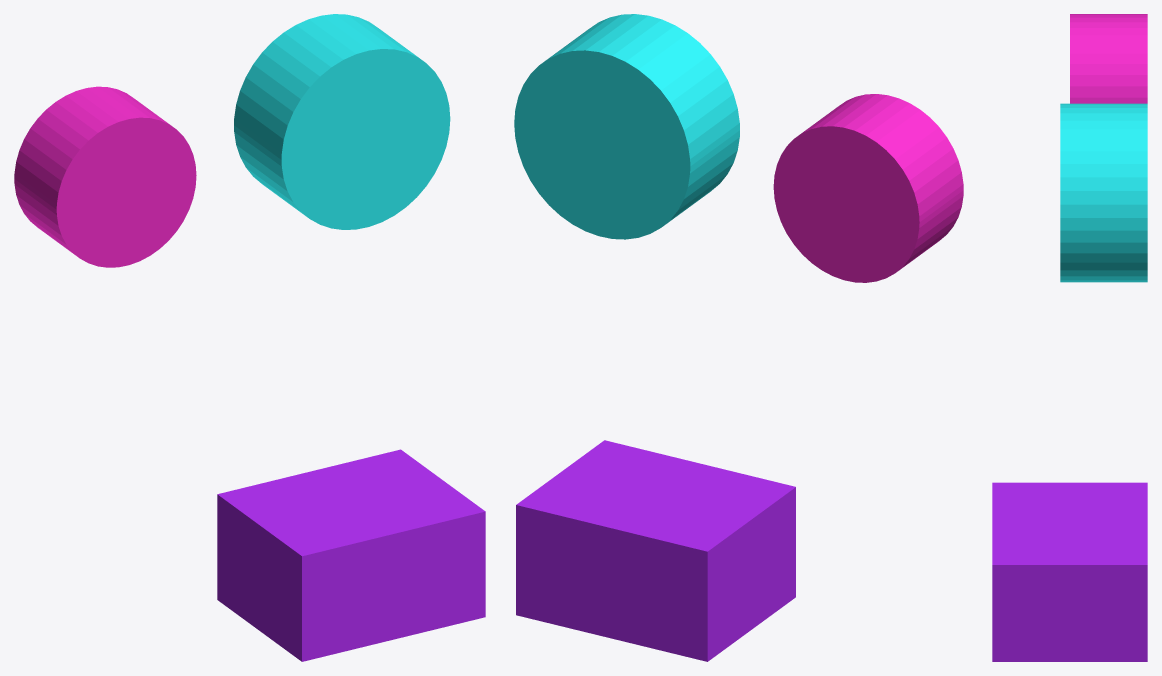
The picture shows the model from 3 angles, left to right: view 1: azimuth 30°, elevation 25°; view 2: azimuth 150°, elevation 25°; view 3: azimuth 270°, elevation 25°; orthographic projection. The views are drawn at different scales.
Visible parts, largest first — view 1: all faces (×3); view 2: all faces (×3); view 3: all faces (×3).
Part boxes in pixels (left/top/right/bottom): all faces (×3): left=14, top=14, right=485, bottom=661; all faces (×3): left=514, top=14, right=963, bottom=661; all faces (×3): left=992, top=14, right=1147, bottom=661.
Size of the model in its own units: 84.62 by 116 by 32.
